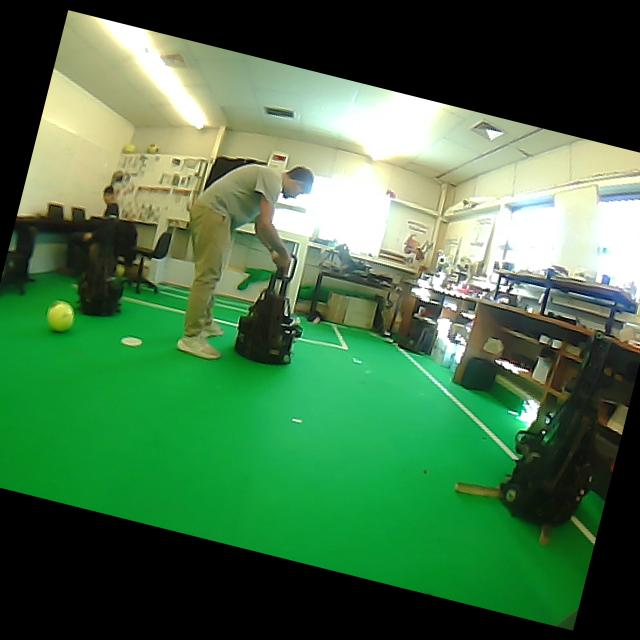ball: (46, 300, 74, 331), (121, 142, 137, 153), (114, 263, 125, 276), (146, 144, 159, 153)
goal: (286, 235, 309, 311)
robot: (502, 337, 611, 525), (234, 269, 300, 363), (77, 242, 124, 316)
